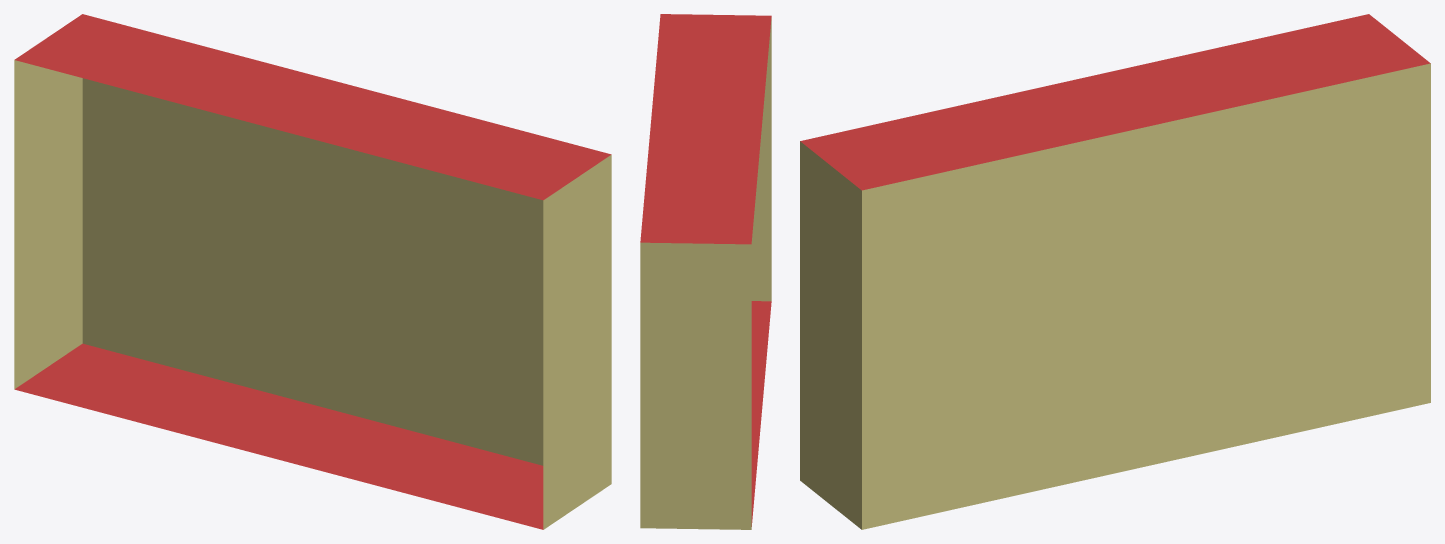
3 views of the same model, side by side, from view 1: azimuth 30°, elevation 25°; view 2: azimuth 150°, elevation 25°; view 3: azimuth 270°, elevation 25° (orthographic). The views are drawn at different scales.
Bounding box in the file's own units: 5.71 × 8.62 × 5.12.
